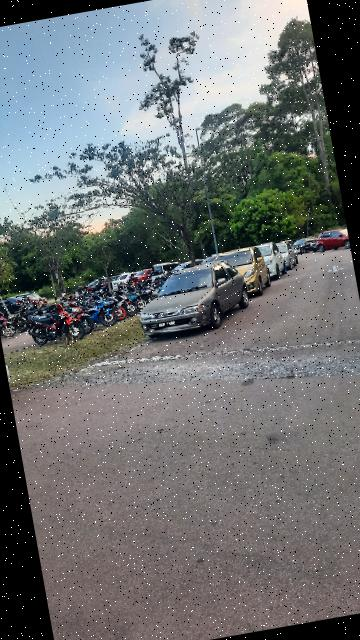License_Plate: (157, 319, 179, 332)
car: (133, 257, 255, 343)
